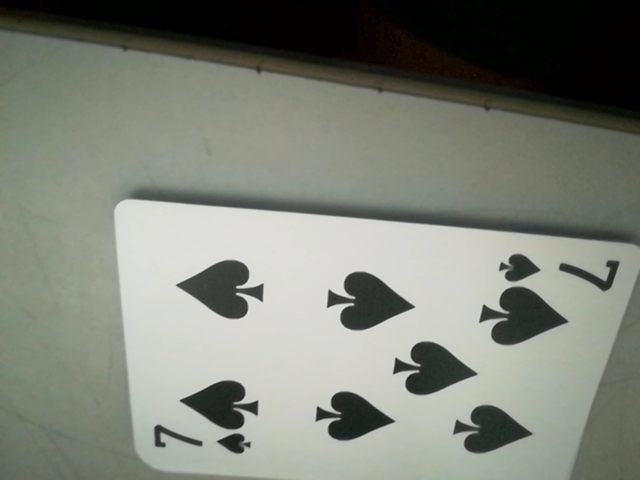ht 7: (493, 244, 631, 292)
